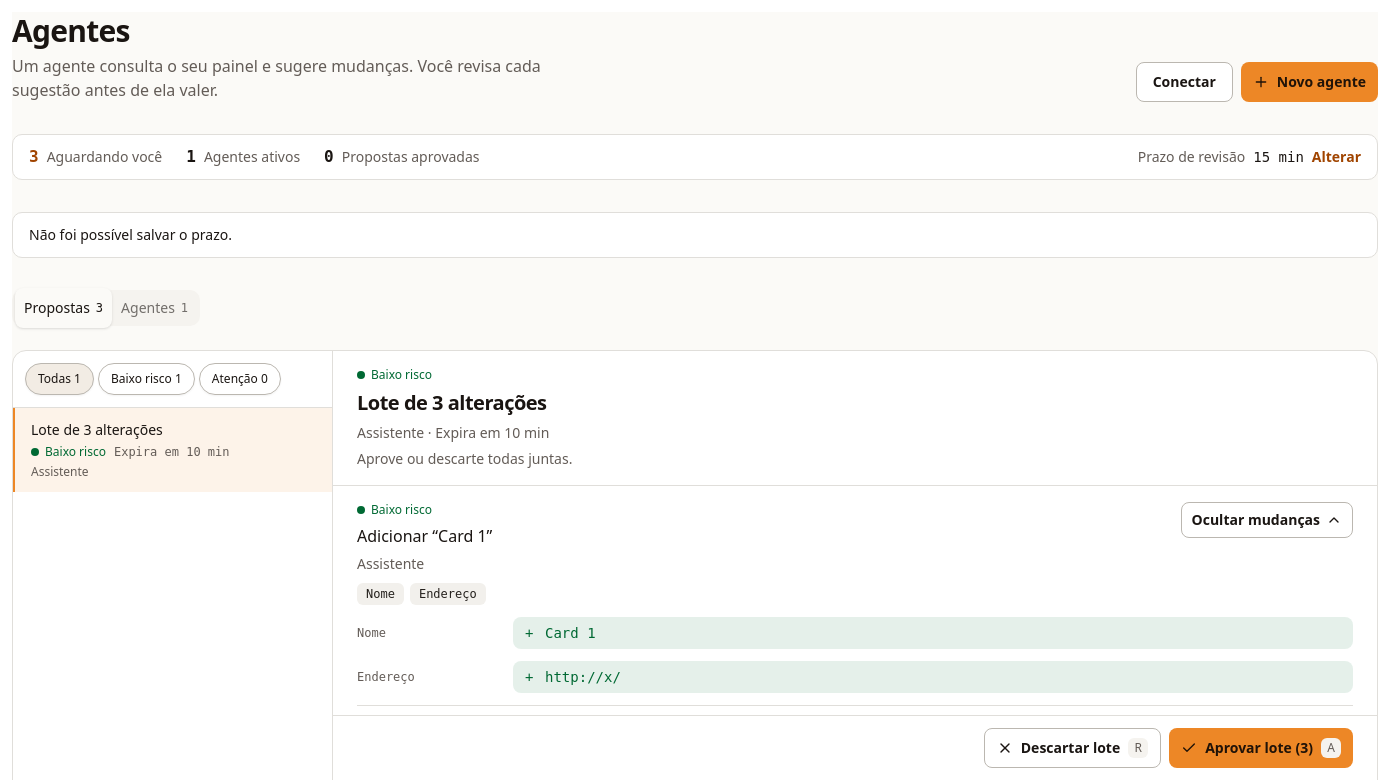
Test: reviews a batch together and explains conflicting changes
Click the button "Aprovar lote (3) A": x=1261, y=748 [1169,728,1353,768]
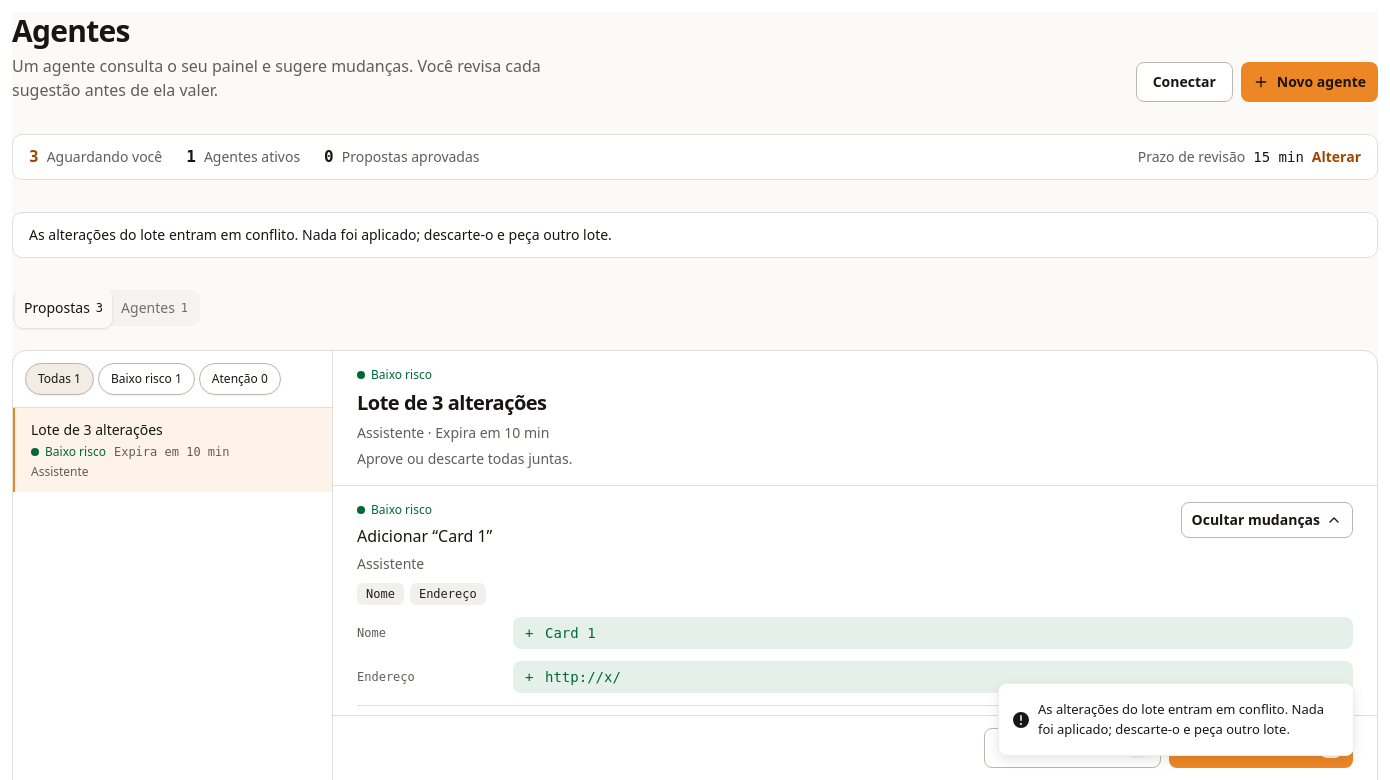
Expected: the text "Lote de 3 alterações" is shown, [31,420,163,440]
Result: the text "As alterações do lote entram em conflito" below "Aguardando você" is shown at [29,224,612,244]
